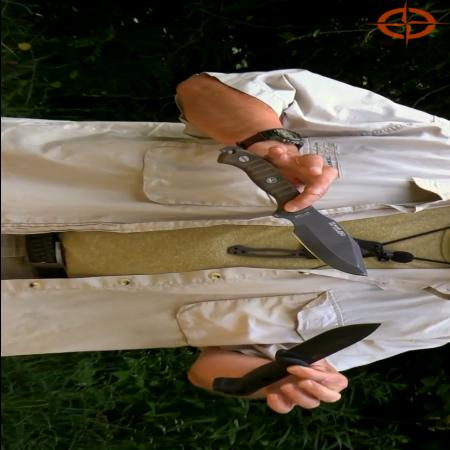long weapon: (214, 146, 372, 278), (206, 322, 386, 398)
